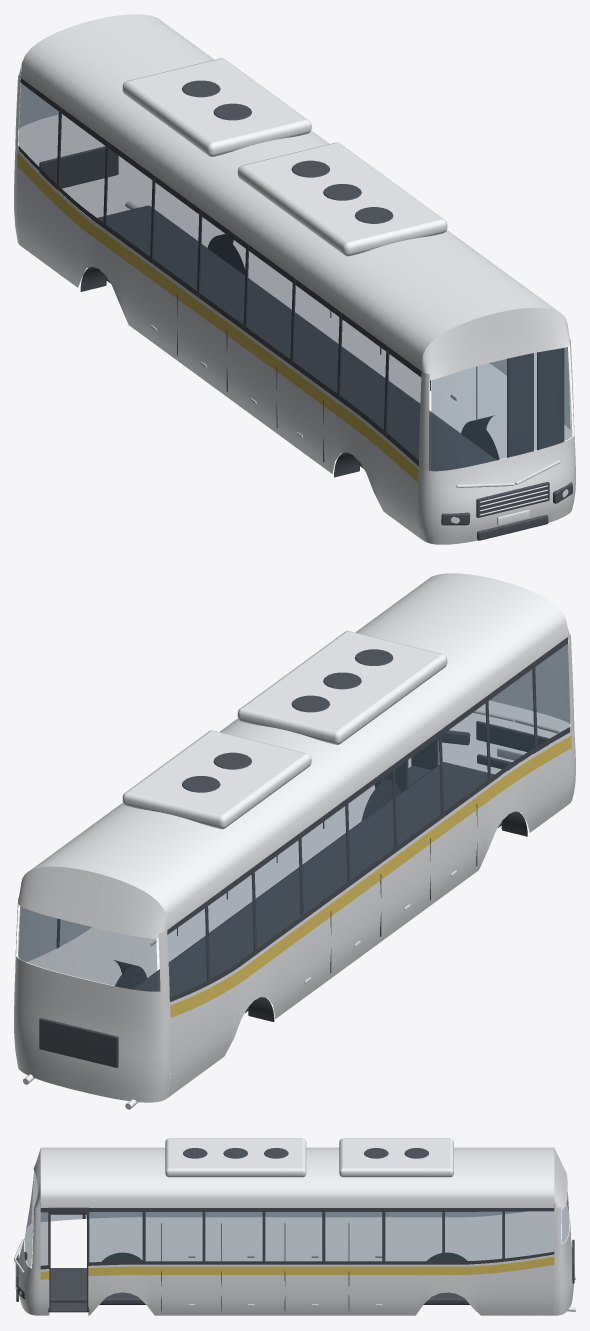
The model's file is bus_express.glb.
The picture shows the model from 3 angles, top to bottom: view 1: azimuth 30°, elevation 25°; view 2: azimuth 150°, elevation 25°; view 3: azimuth 270°, elevation 25°; orthographic projection. The views are drawn at different scales.
Parts seen in each view (by area): view 1: PaintShell, CabinGlass, DarkTrim, RoofPod, AccentShell, ChromeTrim; view 2: PaintShell, CabinGlass, DarkTrim, RoofPod, AccentShell, ChromeTrim; view 3: PaintShell, CabinGlass, DarkTrim, RoofPod, AccentShell, ChromeTrim.
Boxes of the visible parts, box(x1,y1,x2,y2) form: PaintShell: box(14, 14, 575, 544); CabinGlass: box(19, 83, 571, 470); DarkTrim: box(18, 78, 572, 540); RoofPod: box(122, 58, 447, 256); AccentShell: box(17, 153, 418, 482); ChromeTrim: box(125, 201, 568, 525); PaintShell: box(14, 573, 575, 1102); CabinGlass: box(18, 644, 570, 997); DarkTrim: box(39, 637, 570, 1067); RoofPod: box(122, 631, 447, 829); AccentShell: box(170, 736, 571, 1017); ChromeTrim: box(23, 710, 560, 1109); PaintShell: box(18, 1147, 573, 1315); CabinGlass: box(25, 1171, 569, 1266); DarkTrim: box(16, 1148, 574, 1312); RoofPod: box(165, 1138, 453, 1177); AccentShell: box(40, 1257, 554, 1279); ChromeTrim: box(14, 1239, 575, 1311).
Size of the model in its own units: 2.61 by 3.57 by 12.76.
